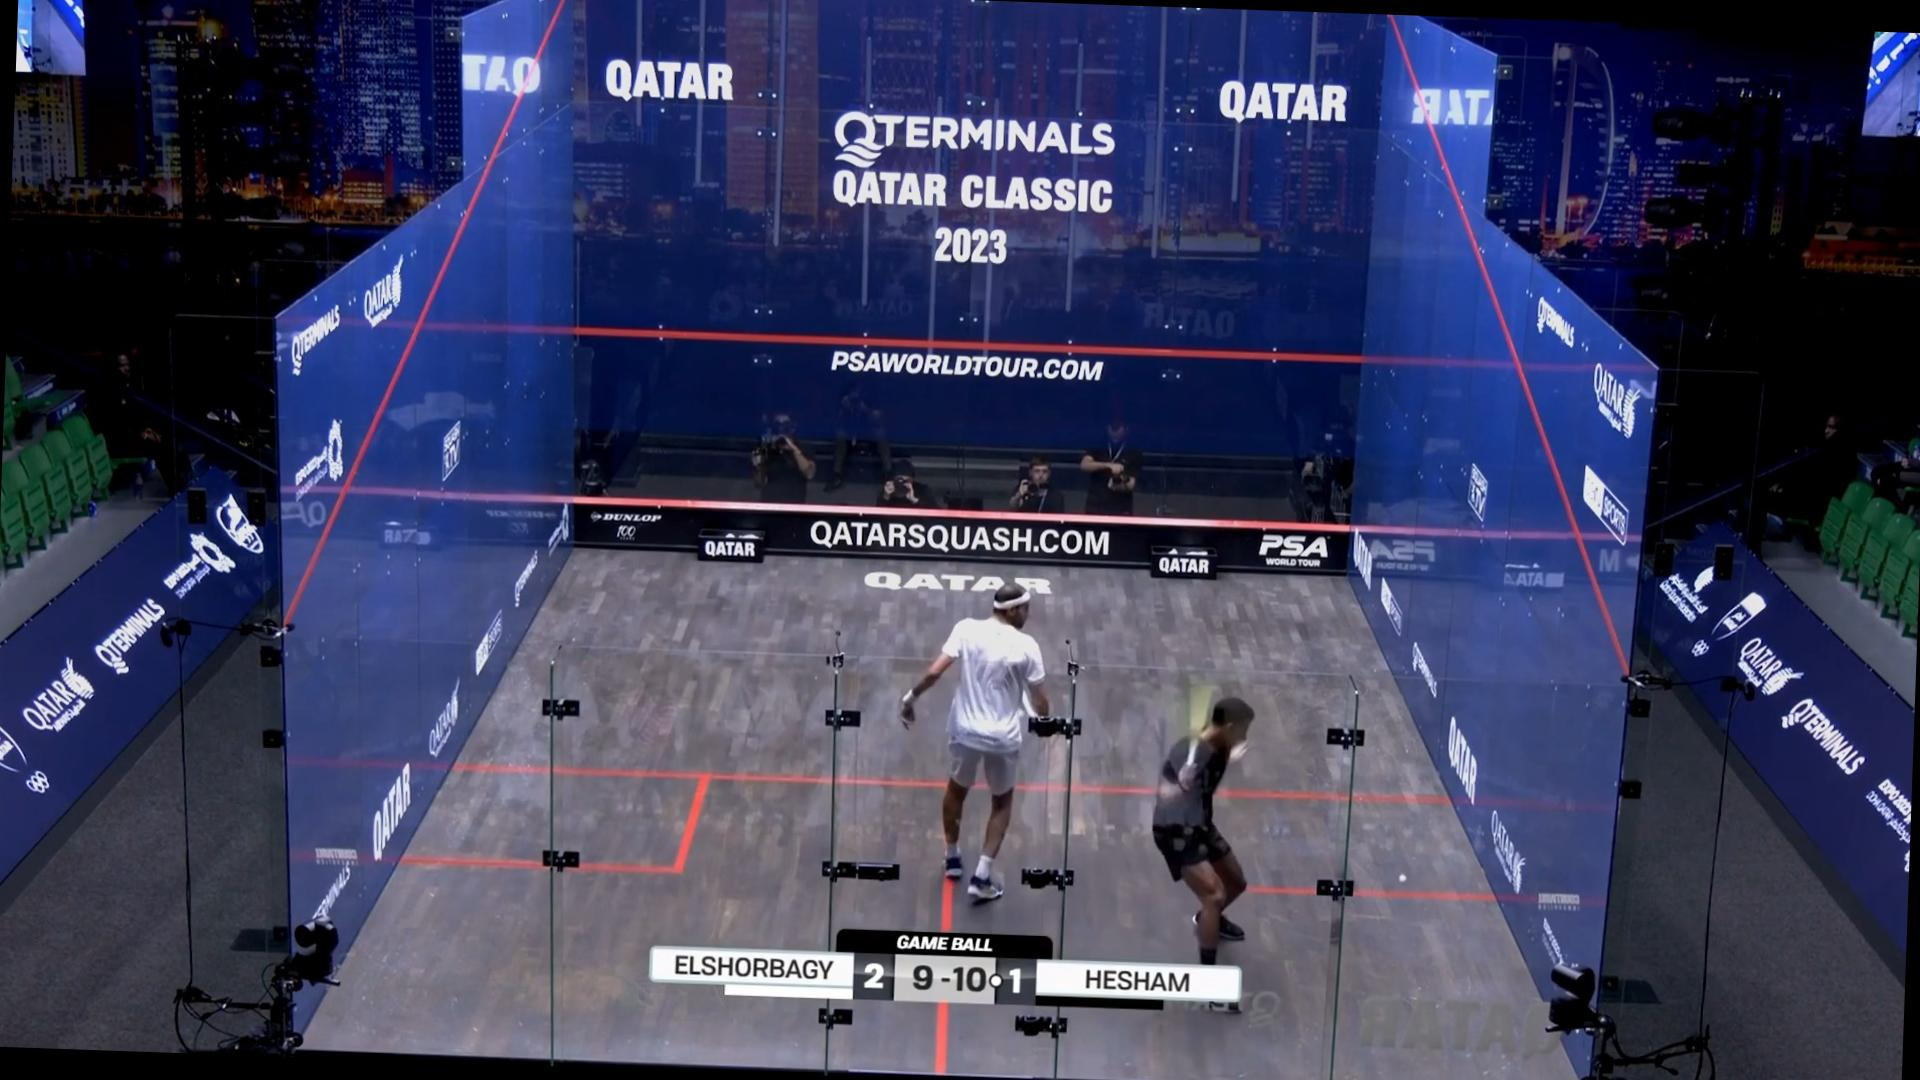Squash-Ball: (1389, 865, 1418, 893)
